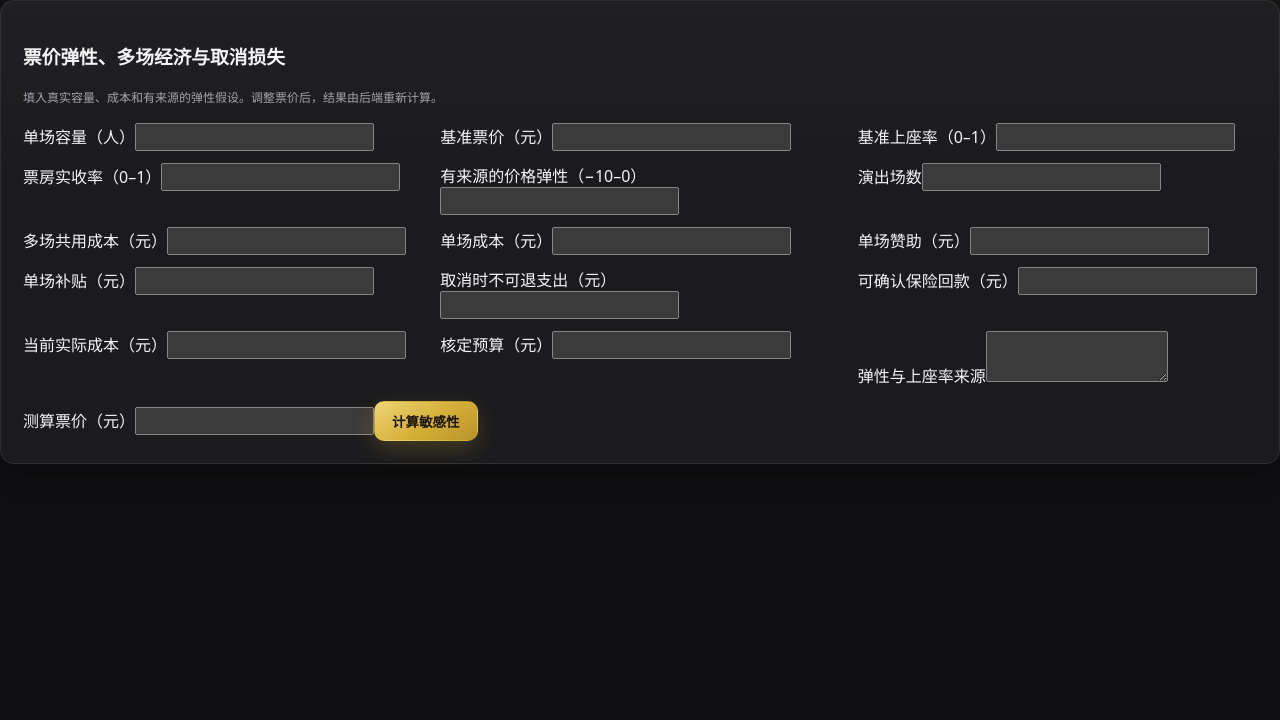
Test: sends explicit assumptions to the backend and shows missing parameters
Type "100" into the number field labelled "测算票价（元）" at (254, 421), box top-left (135, 407), bottom-right (374, 435)
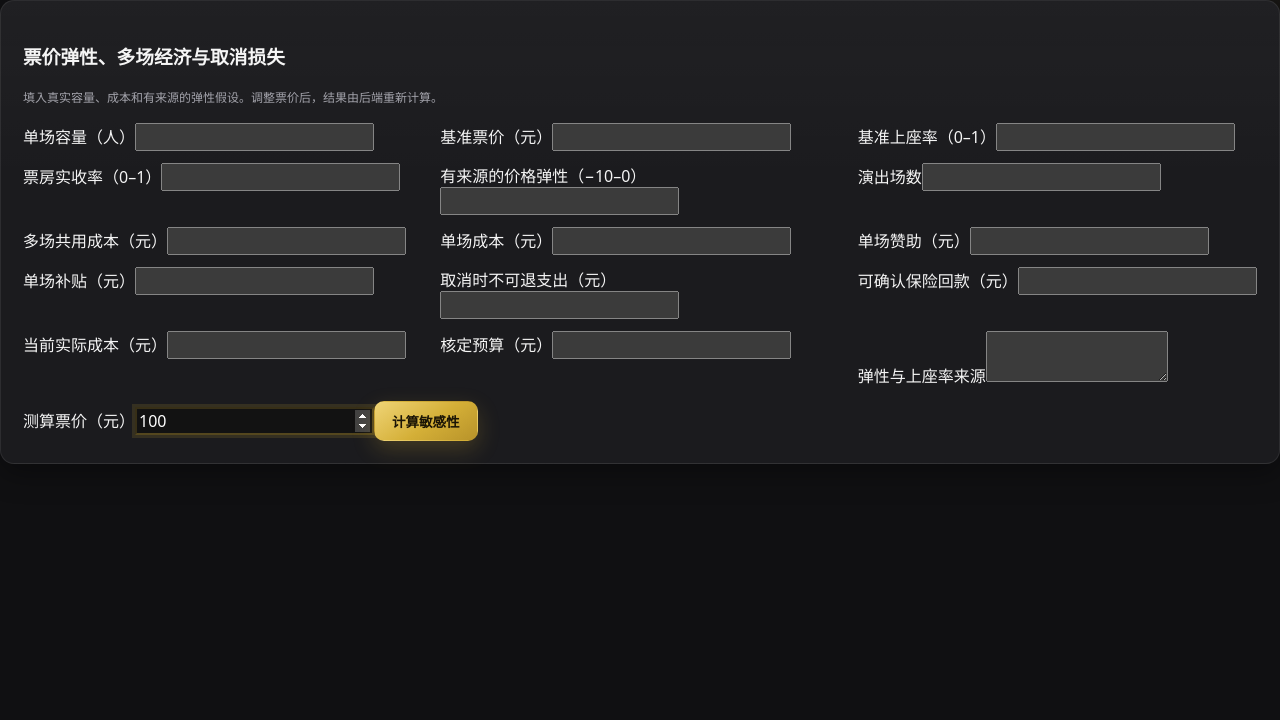
Type "-1" into the number field labelled "有来源的价格弹性（−10–0）" at (560, 201), box top-left (440, 187), bottom-right (679, 215)
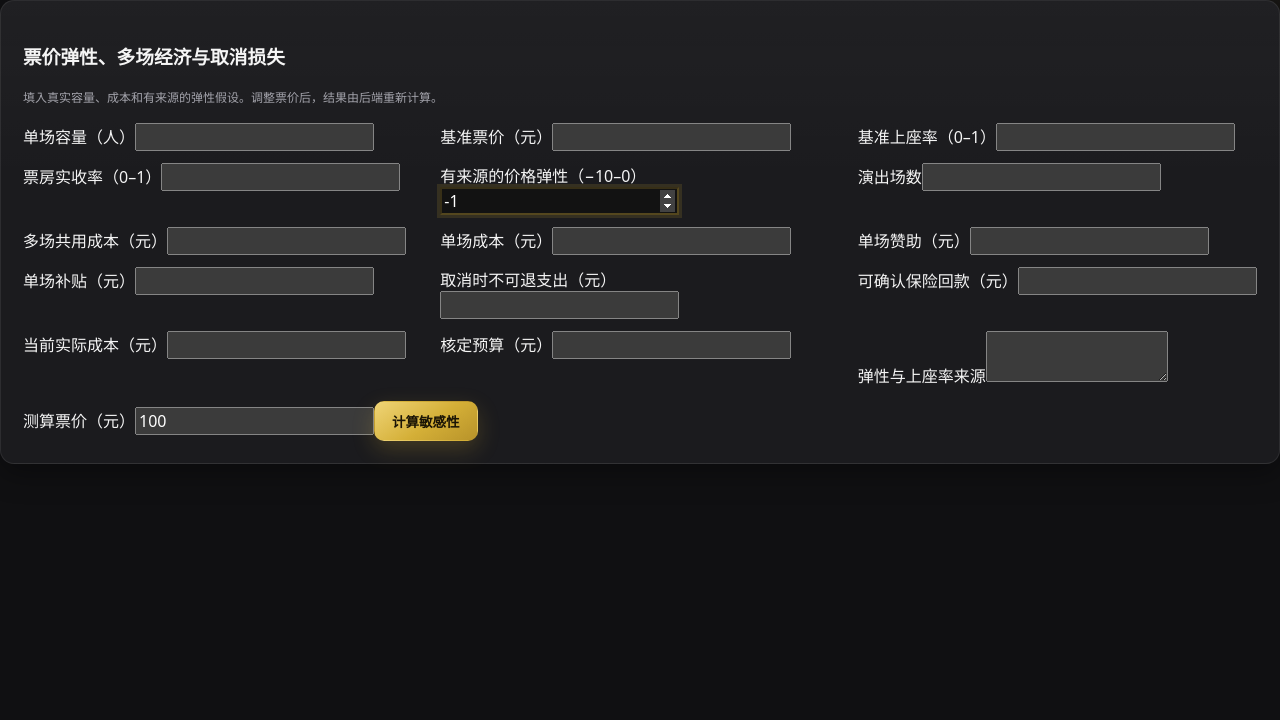
Click the button "计算敏感性" at (426, 421), box top-left (374, 401), bottom-right (478, 441)
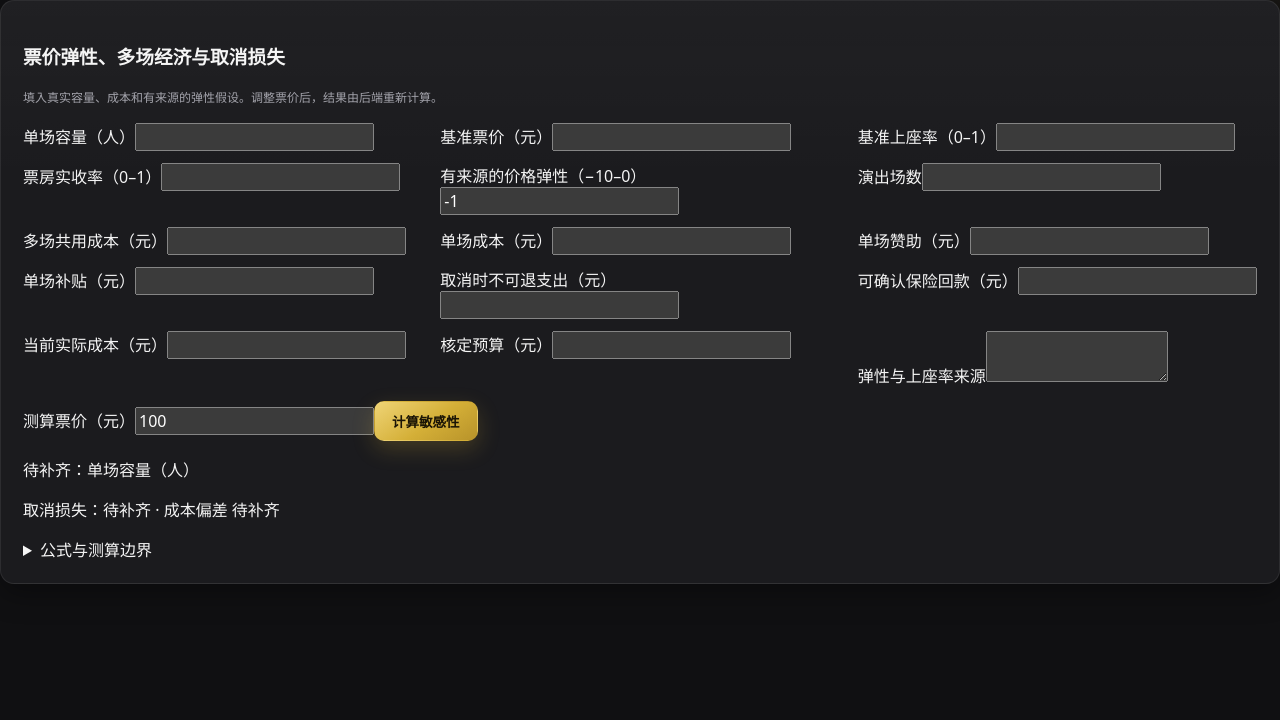
Check: the text "待补齐：单场容量（人）" is shown, box top-left (23, 459), bottom-right (199, 481)
